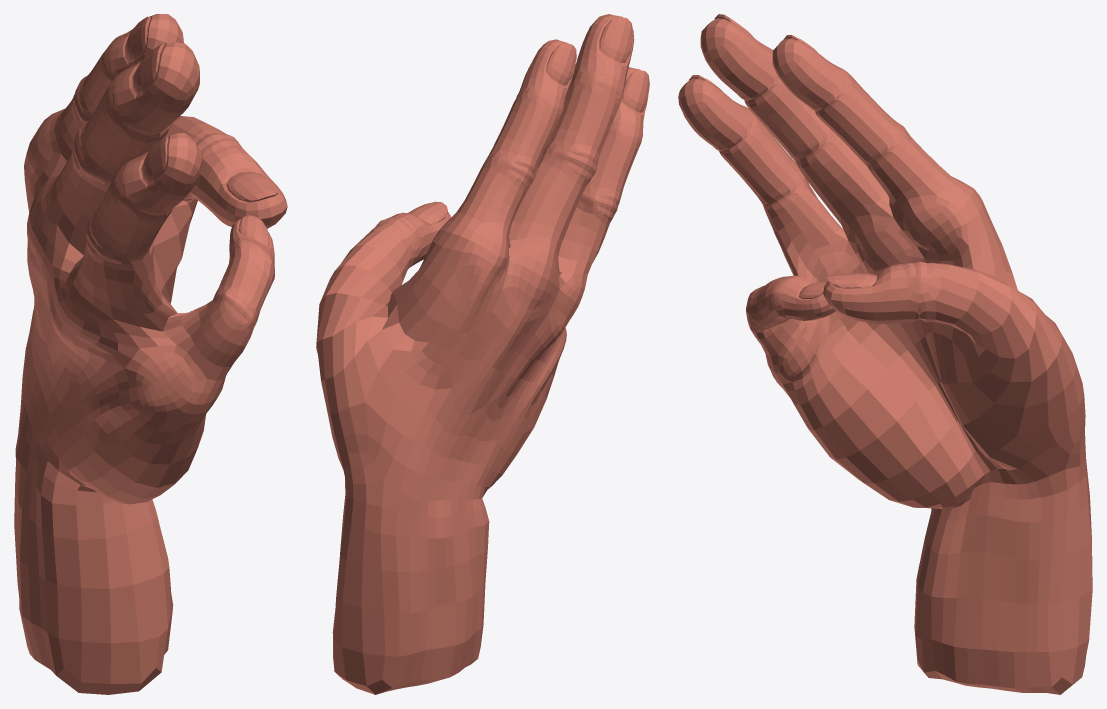
Rendered from cha.glb.
3 renders of one model, left to right at view 1: azimuth 30°, elevation 25°; view 2: azimuth 150°, elevation 25°; view 3: azimuth 270°, elevation 25°, orthographic. The views are drawn at different scales.
Visible parts, largest first — view 1: ZBrushPolyMesh3D; view 2: ZBrushPolyMesh3D; view 3: ZBrushPolyMesh3D.
Boxes of the visible parts, x1,y1,x2,y2 form: ZBrushPolyMesh3D: (14, 14, 287, 694); ZBrushPolyMesh3D: (316, 14, 649, 694); ZBrushPolyMesh3D: (678, 14, 1092, 694).
Bounding box in the file's own units: 1.59 × 4.8 × 2.88.
